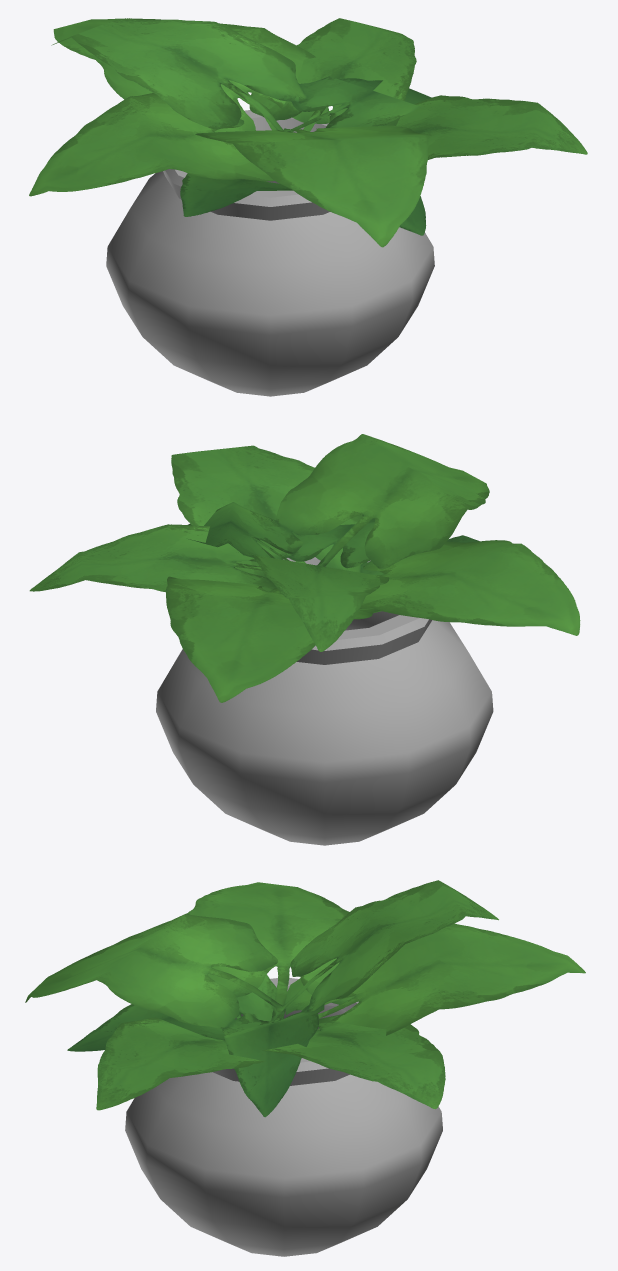
The model's file is SM_Plante_01_low.fbx.
3 views of the same model, one above another, from view 1: azimuth 30°, elevation 25°; view 2: azimuth 150°, elevation 25°; view 3: azimuth 270°, elevation 25° (orthographic). The views are drawn at different scales.
Visible parts, largest first — view 1: SM_Plante_01; view 2: SM_Plante_01; view 3: SM_Plante_01.
Boxes of the visible parts, x1=… form: SM_Plante_01: x1=29, y1=18, x2=587, y2=396; SM_Plante_01: x1=29, y1=434, x2=580, y2=845; SM_Plante_01: x1=25, y1=880, x2=585, y2=1256.
Size of the model in its own units: 247 by 146 by 265.
